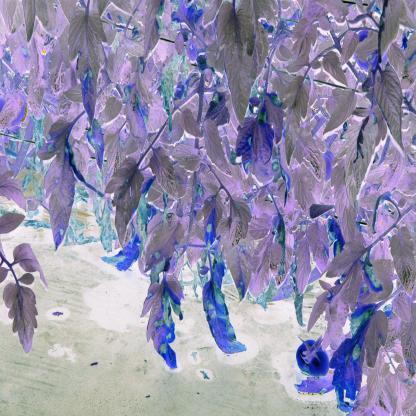tomato early blight leaf: (335, 296, 390, 405), (39, 106, 79, 253), (66, 1, 113, 124), (197, 267, 247, 377), (146, 276, 185, 377), (125, 59, 155, 152), (235, 120, 277, 179), (171, 7, 209, 58), (304, 218, 333, 282), (204, 188, 224, 249), (84, 118, 107, 166)
tomato leaf: (3, 279, 42, 353), (376, 66, 403, 148), (199, 120, 233, 178), (389, 227, 416, 298), (284, 77, 304, 170), (149, 145, 180, 202), (324, 91, 353, 134), (321, 54, 351, 89)
